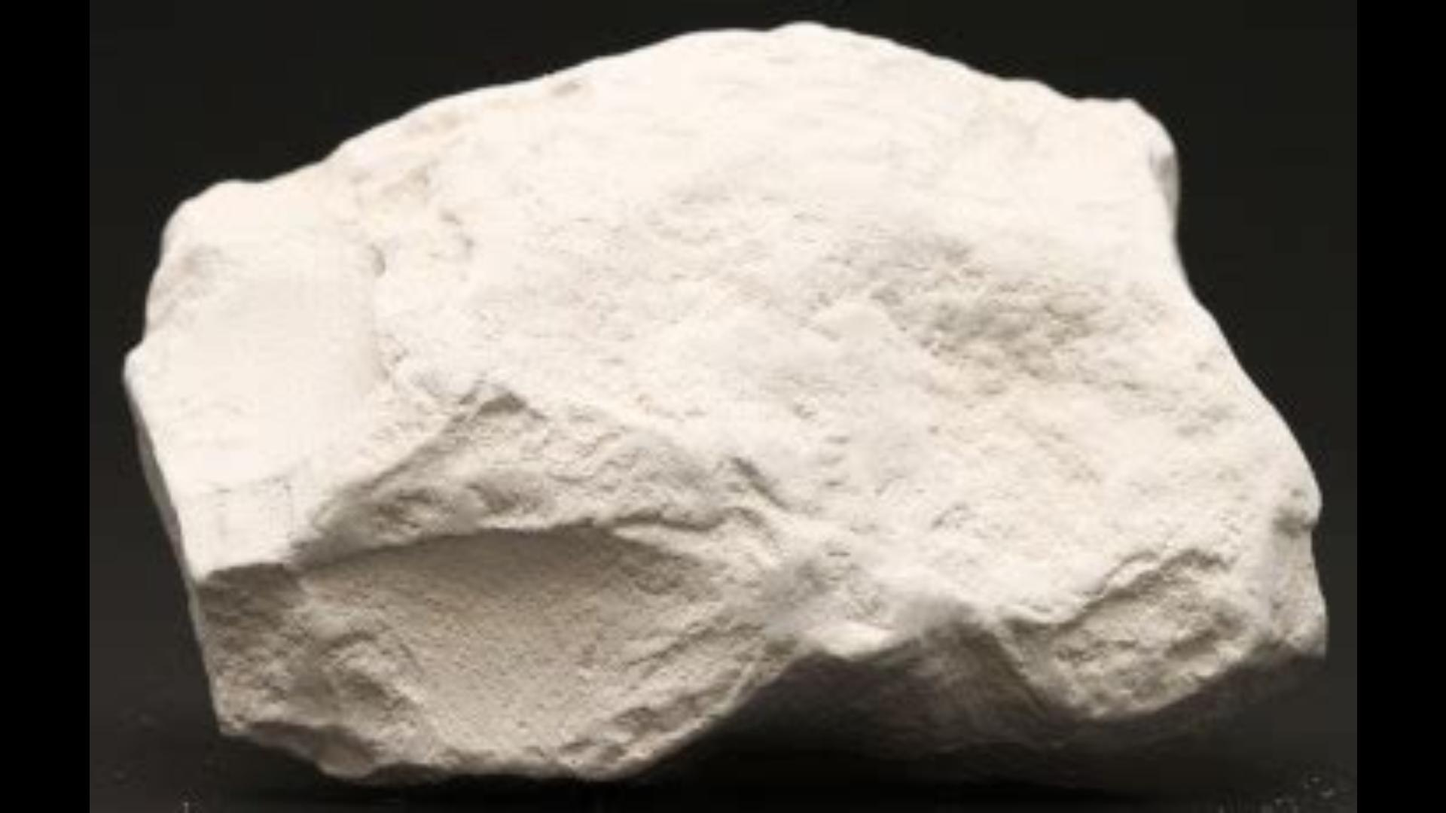rock: (124, 25, 1318, 778)
